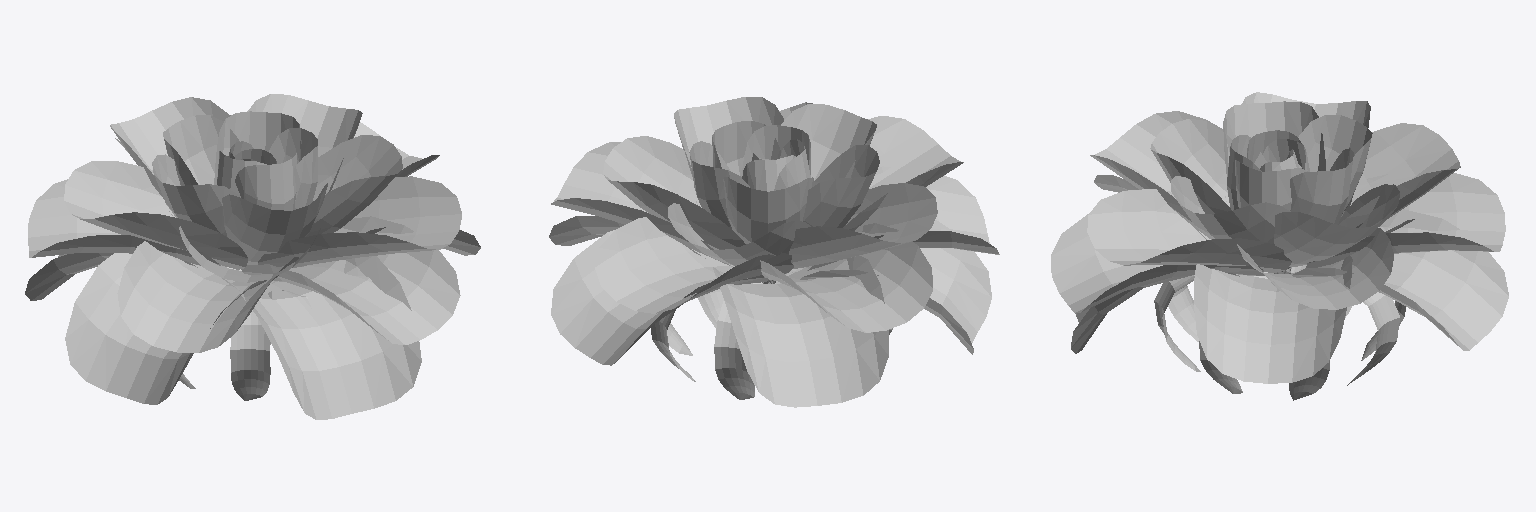
Rendered from FlowerTopModel_03_seq_0047.obj.
3 renders of one model, left to right at view 1: azimuth 30°, elevation 25°; view 2: azimuth 150°, elevation 25°; view 3: azimuth 270°, elevation 25°, orthographic.
Parts seen in each view (by area): view 1: FlowerTopModel_03; view 2: FlowerTopModel_03; view 3: FlowerTopModel_03.
Part boxes in pixels (x1,y1,x2,y2): FlowerTopModel_03: (25,94,480,419); FlowerTopModel_03: (549,97,999,407); FlowerTopModel_03: (1051,92,1508,400).
Bounding box in the file's own units: 922 × 503 × 936.